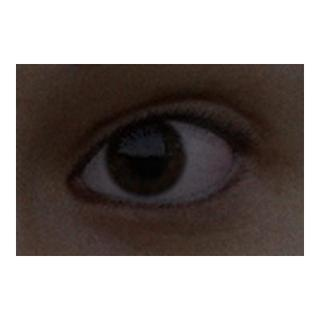pupil: (128, 140, 163, 174)
